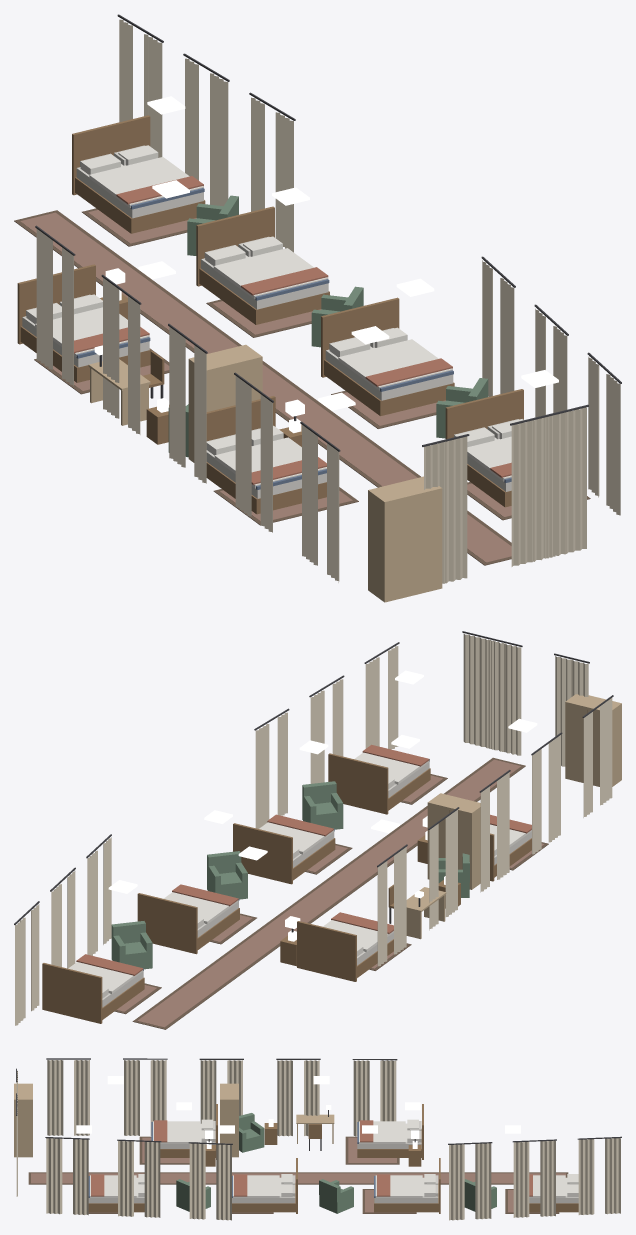
File: fine-s2.glb
The picture shows the model from 3 angles, top to bottom: view 1: azimuth 30°, elevation 25°; view 2: azimuth 150°, elevation 25°; view 3: azimuth 270°, elevation 25°; orthographic projection. The views are drawn at different scales.
Parts seen in each view (by area): view 1: soft-s2, dresser.003, bed-frame.009, bed-frame.008, bed-frame.010, bed-frame.011, dresser.002, bed-frame.007, bed-frame.006, writing-desk.001, lounge-chair.007, lounge-chair.006 (+2 smaller); view 2: soft-s2, bed-frame.008, bed-frame.011, bed-frame.009, bed-frame.006, bed-frame.010, dresser.003, dresser.002, lounge-chair.007, lounge-chair.005, lounge-chair.006, writing-desk.001 (+2 smaller); view 3: soft-s2, dresser.003, bed-frame.009, bed-frame.010, dresser.002, bed-frame.006, lounge-chair.006, lounge-chair.004, bed-frame.011, bed-frame.007, bed-frame.008, lounge-chair.007 (+6 smaller).
Part boxes in pixels (box(x1,y1,x2,y2)): soft-s2: box(14, 14, 621, 583); dresser.003: box(368, 476, 442, 602); bed-frame.009: box(196, 206, 329, 324); bed-frame.008: box(72, 115, 205, 233); bed-frame.010: box(321, 297, 454, 416); bed-frame.011: box(445, 389, 523, 507); dresser.002: box(188, 344, 262, 462); bed-frame.007: box(206, 396, 326, 514); bed-frame.006: box(17, 264, 151, 382); writing-desk.001: box(88, 345, 150, 425); lounge-chair.007: box(436, 378, 488, 438); lounge-chair.006: box(311, 286, 363, 347); soft-s2: box(14, 631, 613, 1029); bed-frame.008: box(42, 963, 144, 1023); bed-frame.011: box(328, 753, 430, 814); bed-frame.009: box(137, 893, 239, 954); bed-frame.006: box(297, 921, 393, 981); bed-frame.010: box(233, 823, 335, 884); dresser.003: box(565, 694, 621, 786); dresser.002: box(427, 793, 480, 889); lounge-chair.007: box(302, 781, 343, 829); lounge-chair.005: box(111, 921, 152, 969); lounge-chair.006: box(207, 851, 247, 899); writing-desk.001: box(406, 887, 446, 939); soft-s2: box(16, 1058, 621, 1220); dresser.003: box(14, 1083, 32, 1157); bed-frame.009: box(374, 1158, 440, 1213); bed-frame.010: box(232, 1158, 297, 1213); dresser.002: box(220, 1083, 238, 1157); bed-frame.006: box(357, 1104, 423, 1159); lounge-chair.006: box(319, 1179, 353, 1213); lounge-chair.004: box(239, 1113, 264, 1152); bed-frame.011: box(88, 1176, 144, 1212); bed-frame.007: box(151, 1104, 217, 1159); bed-frame.008: box(529, 1177, 578, 1212); lounge-chair.007: box(176, 1179, 210, 1211).
Bounding box in the file's own units: 6.4 × 2.91 × 19.15.
